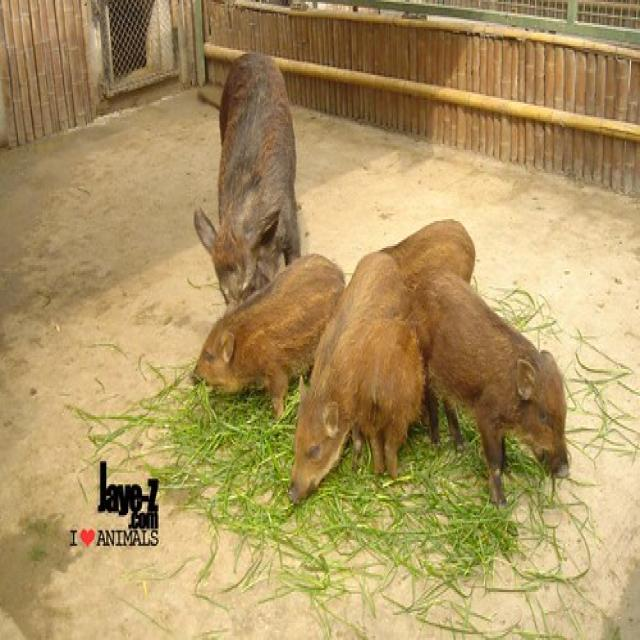boar: (278, 216, 495, 530), (386, 252, 574, 528), (178, 30, 328, 334), (178, 229, 358, 457)
